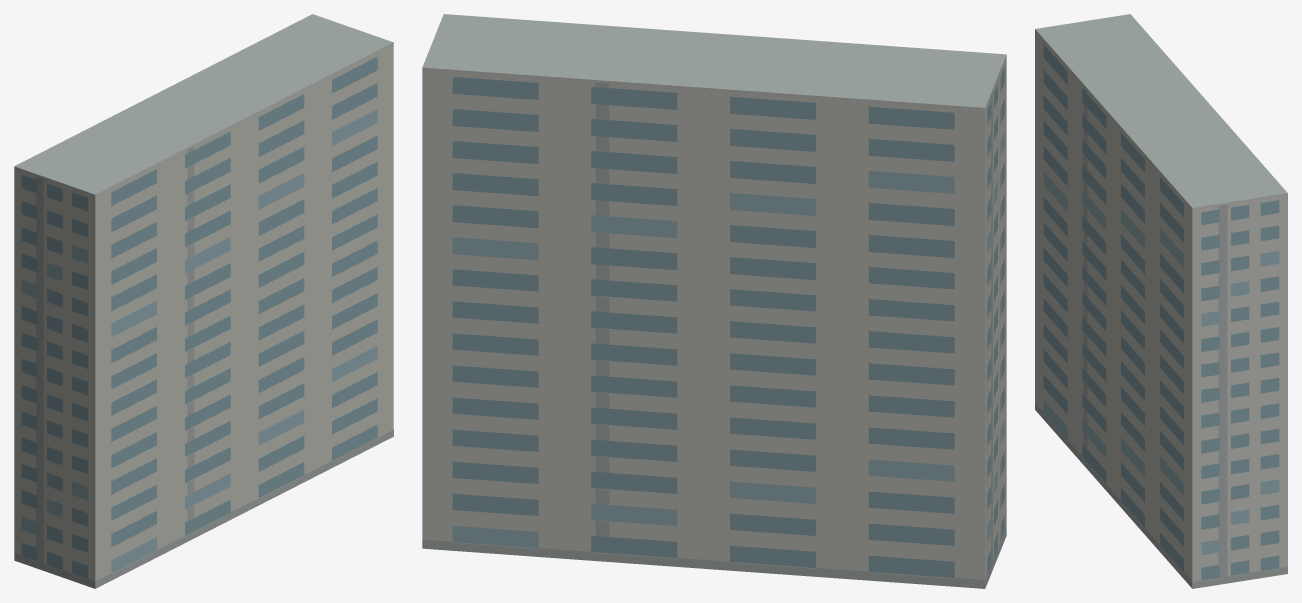
Rendered from residential-92e7e207-8449-4a20-9988-48ce2b1974ca.glb.
3 renders of one model, left to right at view 1: azimuth 30°, elevation 25°; view 2: azimuth 150°, elevation 25°; view 3: azimuth 270°, elevation 25°, orthographic. The views are drawn at different scales.
Visible parts, largest first — view 1: residential-92e7e207-8449-4a20-9988-48ce2b1974ca.tmp; view 2: residential-92e7e207-8449-4a20-9988-48ce2b1974ca.tmp; view 3: residential-92e7e207-8449-4a20-9988-48ce2b1974ca.tmp.
Part boxes in pixels (bbox=[...]): residential-92e7e207-8449-4a20-9988-48ce2b1974ca.tmp: bbox=[14, 14, 393, 588]; residential-92e7e207-8449-4a20-9988-48ce2b1974ca.tmp: bbox=[422, 14, 1006, 588]; residential-92e7e207-8449-4a20-9988-48ce2b1974ca.tmp: bbox=[1035, 14, 1287, 588].
Bounding box in the file's own units: 50 × 45.75 × 27.53.
